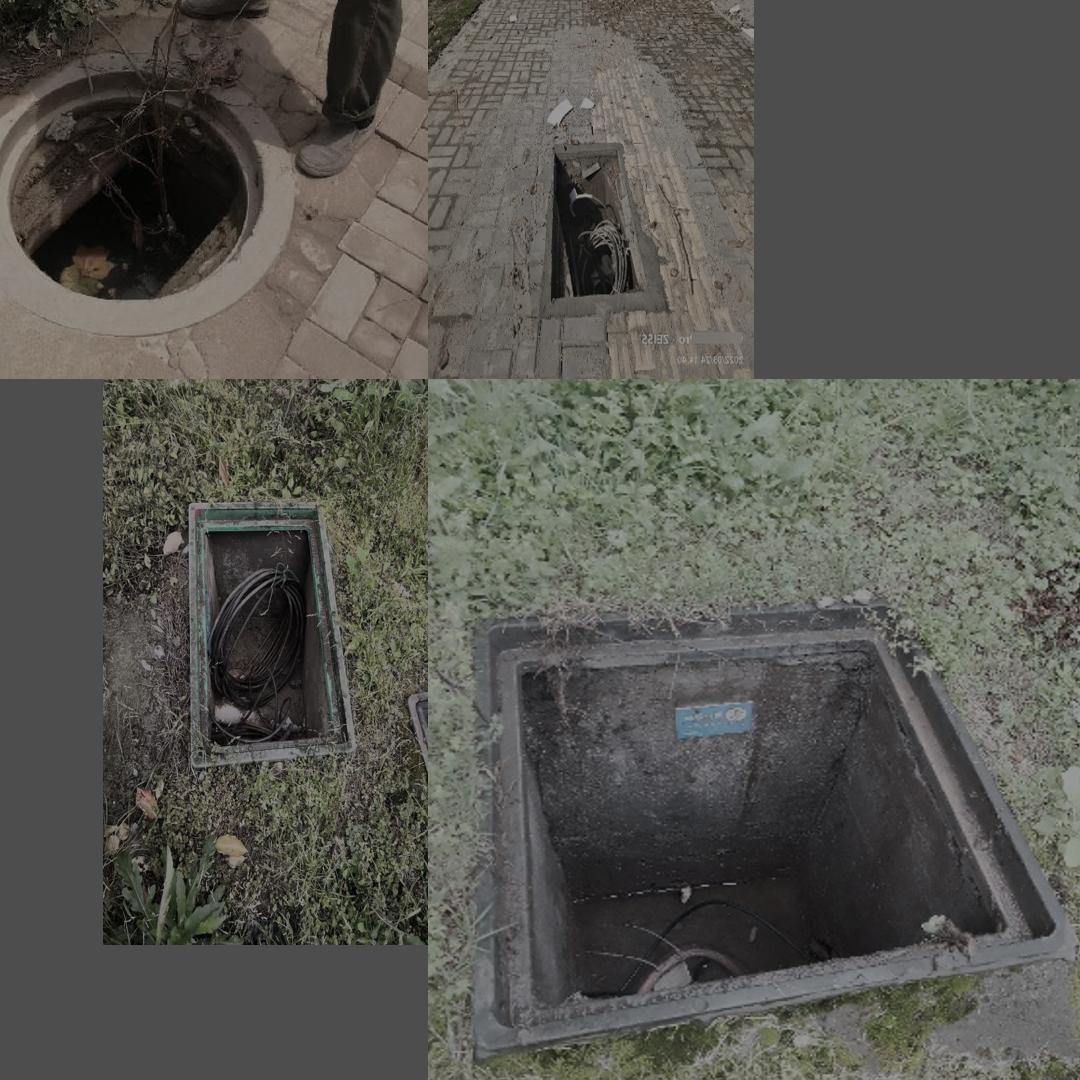lose: (470, 593, 1077, 1058), (0, 54, 292, 333), (186, 500, 356, 770), (534, 118, 667, 333)
